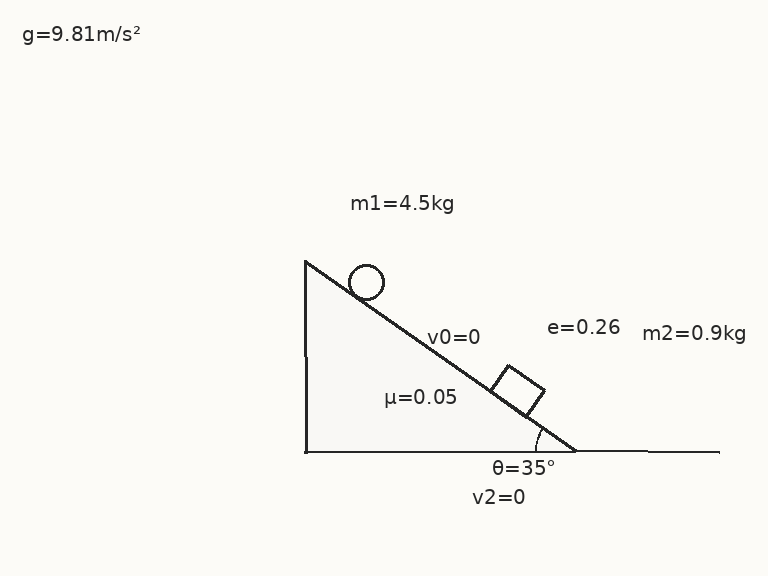ball: (346, 262, 386, 302)
block: (488, 362, 547, 418)
ramp: (303, 259, 578, 453)
